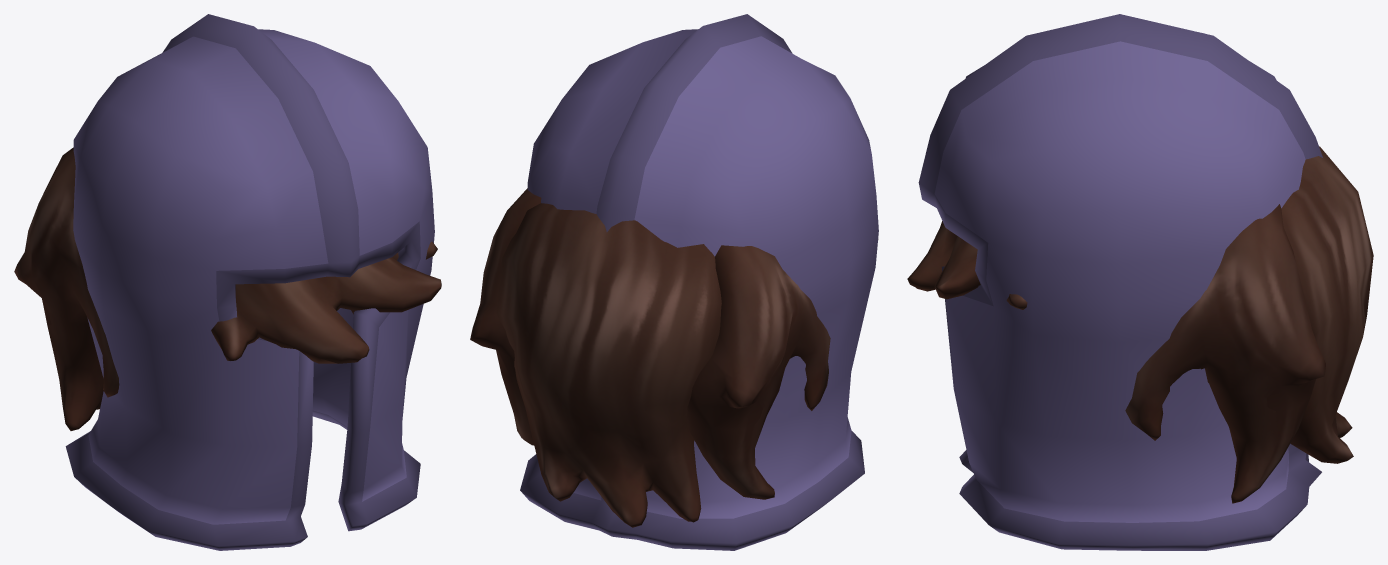
File: helmet.fbx
3 renders of one model, left to right at view 1: azimuth 30°, elevation 25°; view 2: azimuth 150°, elevation 25°; view 3: azimuth 270°, elevation 25°, orthographic. The views are drawn at different scales.
Parts seen in each view (by area): view 1: Helmet.001, Male_Hair_1; view 2: Helmet.001, Male_Hair_1; view 3: Helmet.001, Male_Hair_1.
Boxes of the visible parts, x1,y1,x2,y2 form: Helmet.001: (65,14,434,550); Male_Hair_1: (14,147,441,430); Helmet.001: (520,14,878,550); Male_Hair_1: (470,188,878,527); Helmet.001: (918,14,1322,550); Male_Hair_1: (907,146,1373,503).
Size of the model in its own units: 21.27 by 30.55 by 27.25.
